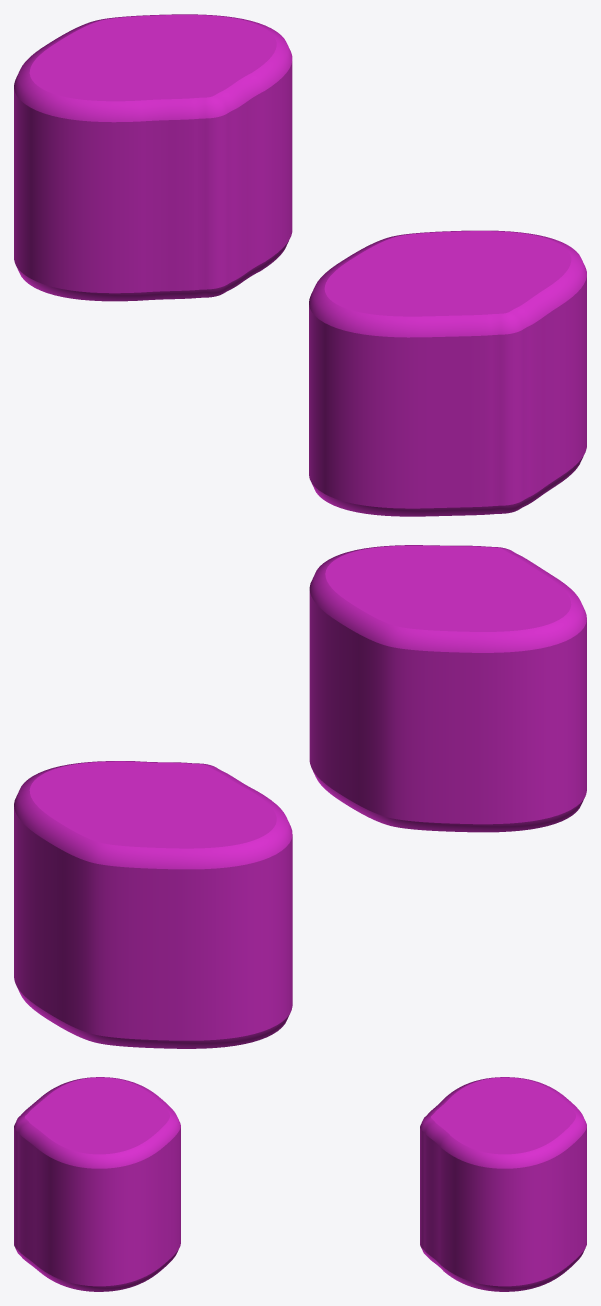
The model's file is Colon_CoolFont.fbx.
3 renders of one model, top to bottom at view 1: azimuth 30°, elevation 25°; view 2: azimuth 150°, elevation 25°; view 3: azimuth 270°, elevation 25°, orthographic. The views are drawn at different scales.
Visible parts, largest first — view 1: Colon; view 2: Colon; view 3: Colon.
Part boxes in pixels (box(x1,y1,x2,y2)): Colon: box(14, 14, 586, 516); Colon: box(14, 545, 586, 1048); Colon: box(14, 1077, 586, 1291).
Bounding box in the file's own units: 0.1885 × 0.14 × 0.53.
